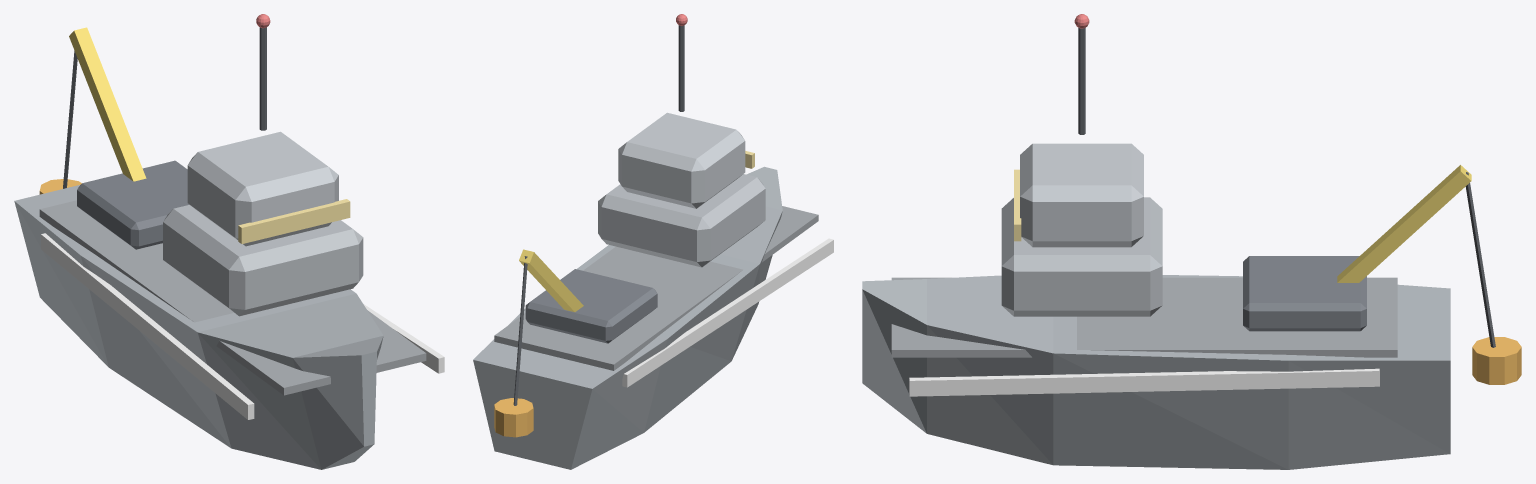
The model's file is minesweeper.glb.
3 views of the same model, side by side, from view 1: azimuth 30°, elevation 25°; view 2: azimuth 150°, elevation 25°; view 3: azimuth 270°, elevation 25° (orthographic). The views are drawn at different scales.
Visible parts, largest first — view 1: main; view 2: main; view 3: main.
Boxes of the visible parts, x1,y1,x2,y2 form: main: (14, 14, 444, 469); main: (473, 14, 833, 469); main: (862, 14, 1521, 469).
Bounding box in the file's own units: 0.38 × 0.762 × 1.07.
